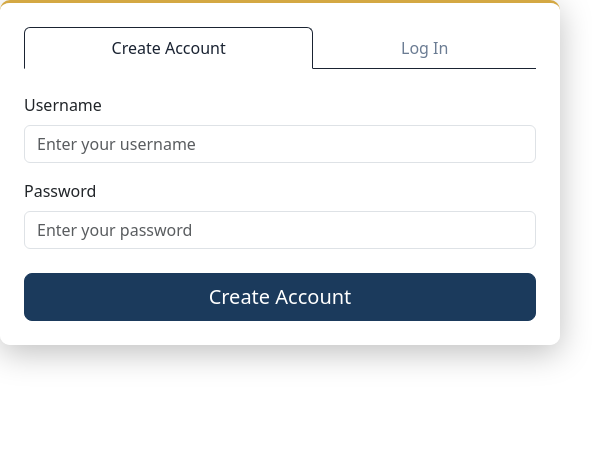
Test: Log In tab › shows an error alert and does not navigate when login fails
Click the tab "Log In".
click(425, 48)  # box top-left (313, 27), bottom-right (536, 69)
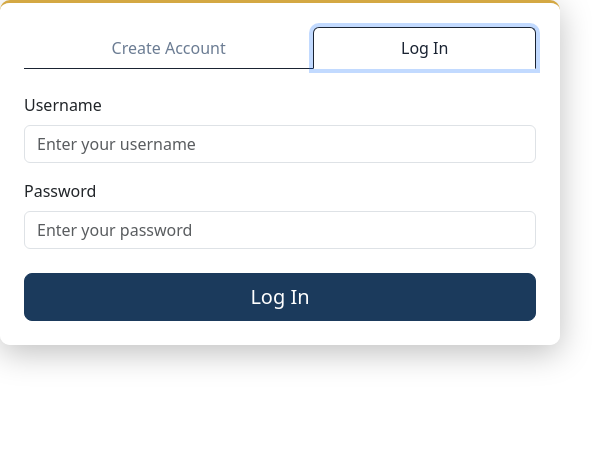
Click the button "Log In".
click(280, 297)  # box top-left (24, 273), bottom-right (536, 321)
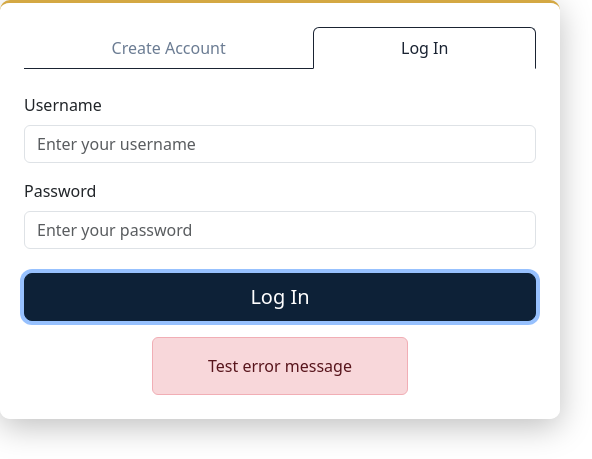
expect the message reads "Test error message": met, box top-left (208, 355), bottom-right (352, 377)
